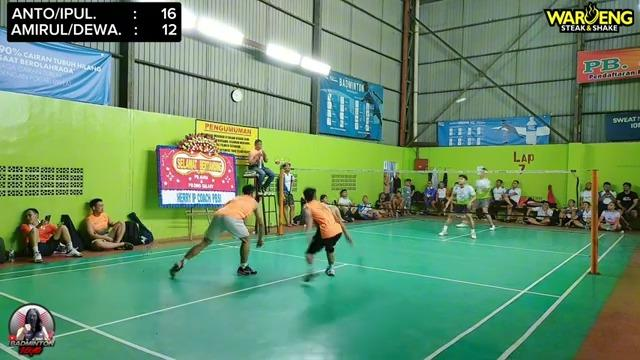Shuttlecock: (454, 92, 468, 103)
